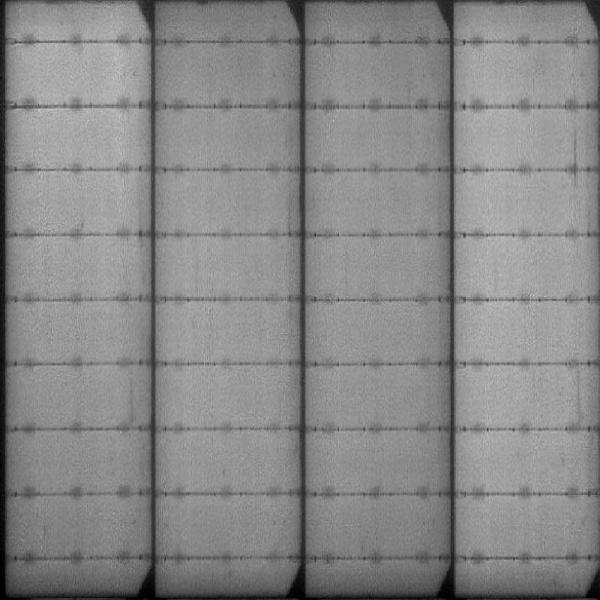scratch: (570, 129, 580, 179)
